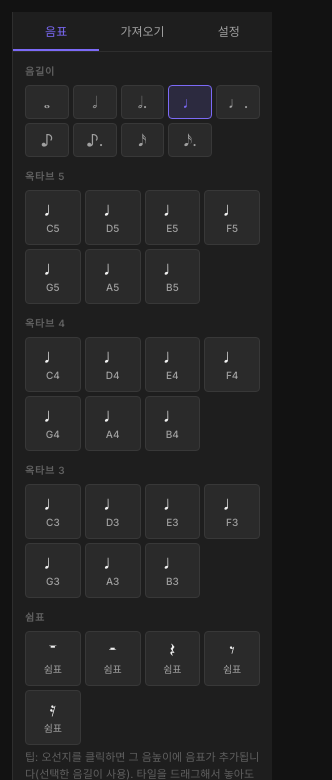
Test: Toolbar › switches between the 음표 / 가져오기 / 설정 tabs
This screenshot has width=332, height=780.
expect the text "음길이" is shown: met, box [25, 65, 55, 77]
Click the tab "가져오기" at (142, 32), box [99, 12, 186, 51]
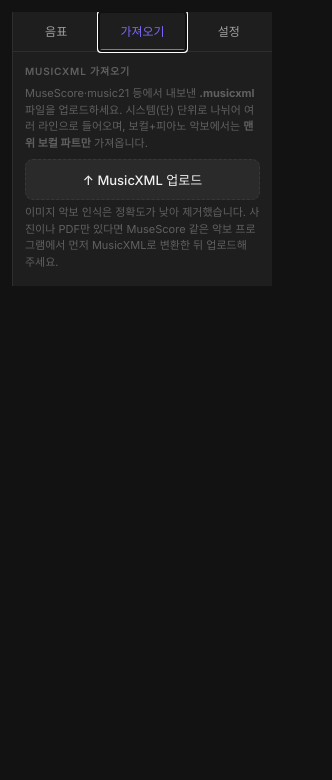
expect the button "↑ MusicXML 업로드" is shown: met, box [25, 159, 260, 200]
Click the tab "설정" at (229, 32), box [186, 12, 272, 51]
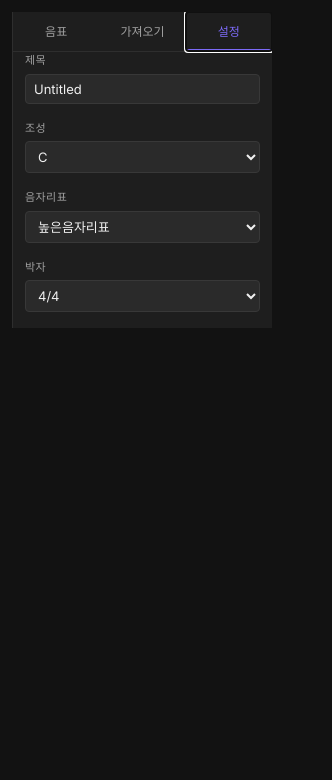
expect the text "조성" is shown: met, box [25, 120, 46, 134]
